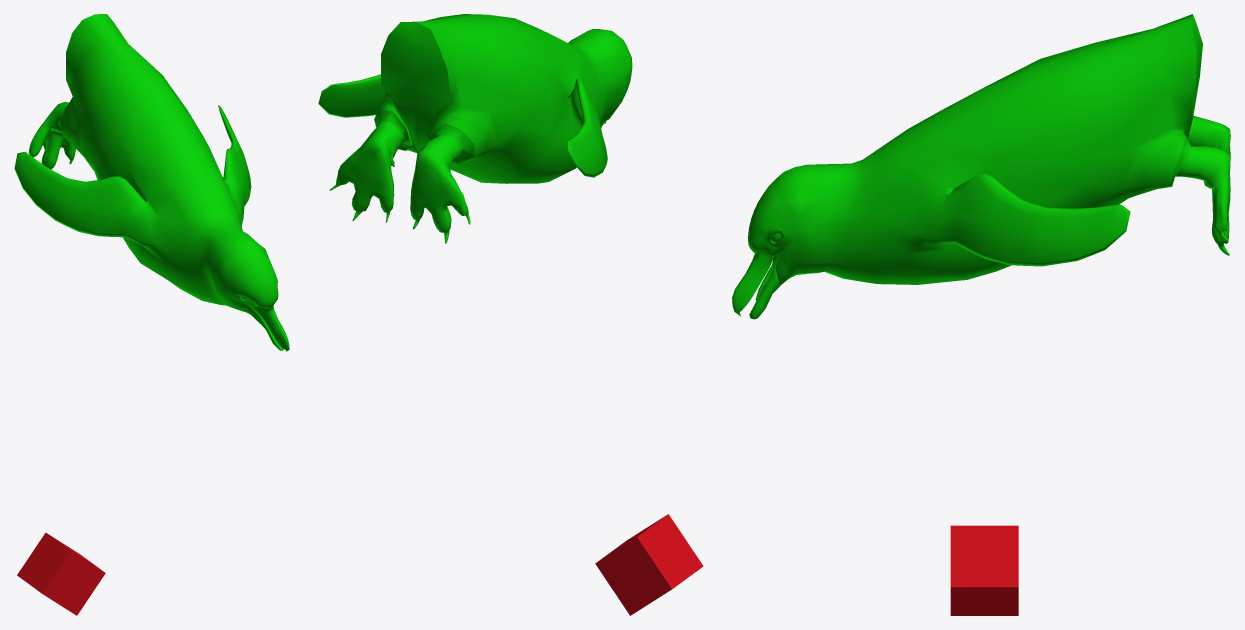
File: pen2.obj
3 views of the same model, side by side, from view 1: azimuth 30°, elevation 25°; view 2: azimuth 150°, elevation 25°; view 3: azimuth 270°, elevation 25° (orthographic). The views are drawn at different scales.
Parts seen in each view (by area): view 1: Animal, Cube; view 2: Animal, Cube; view 3: Animal, Cube.
Part boxes in pixels (left/top/right/bottom): Animal: left=14, top=14, right=289, bottom=351; Cube: left=17, top=532, right=105, bottom=615; Animal: left=318, top=14, right=632, bottom=243; Cube: left=595, top=514, right=703, bottom=615; Animal: left=732, top=14, right=1230, bottom=319; Cube: left=950, top=525, right=1018, bottom=615.
Bounding box in the file's own units: 2.23 × 4.34 × 2.93.
